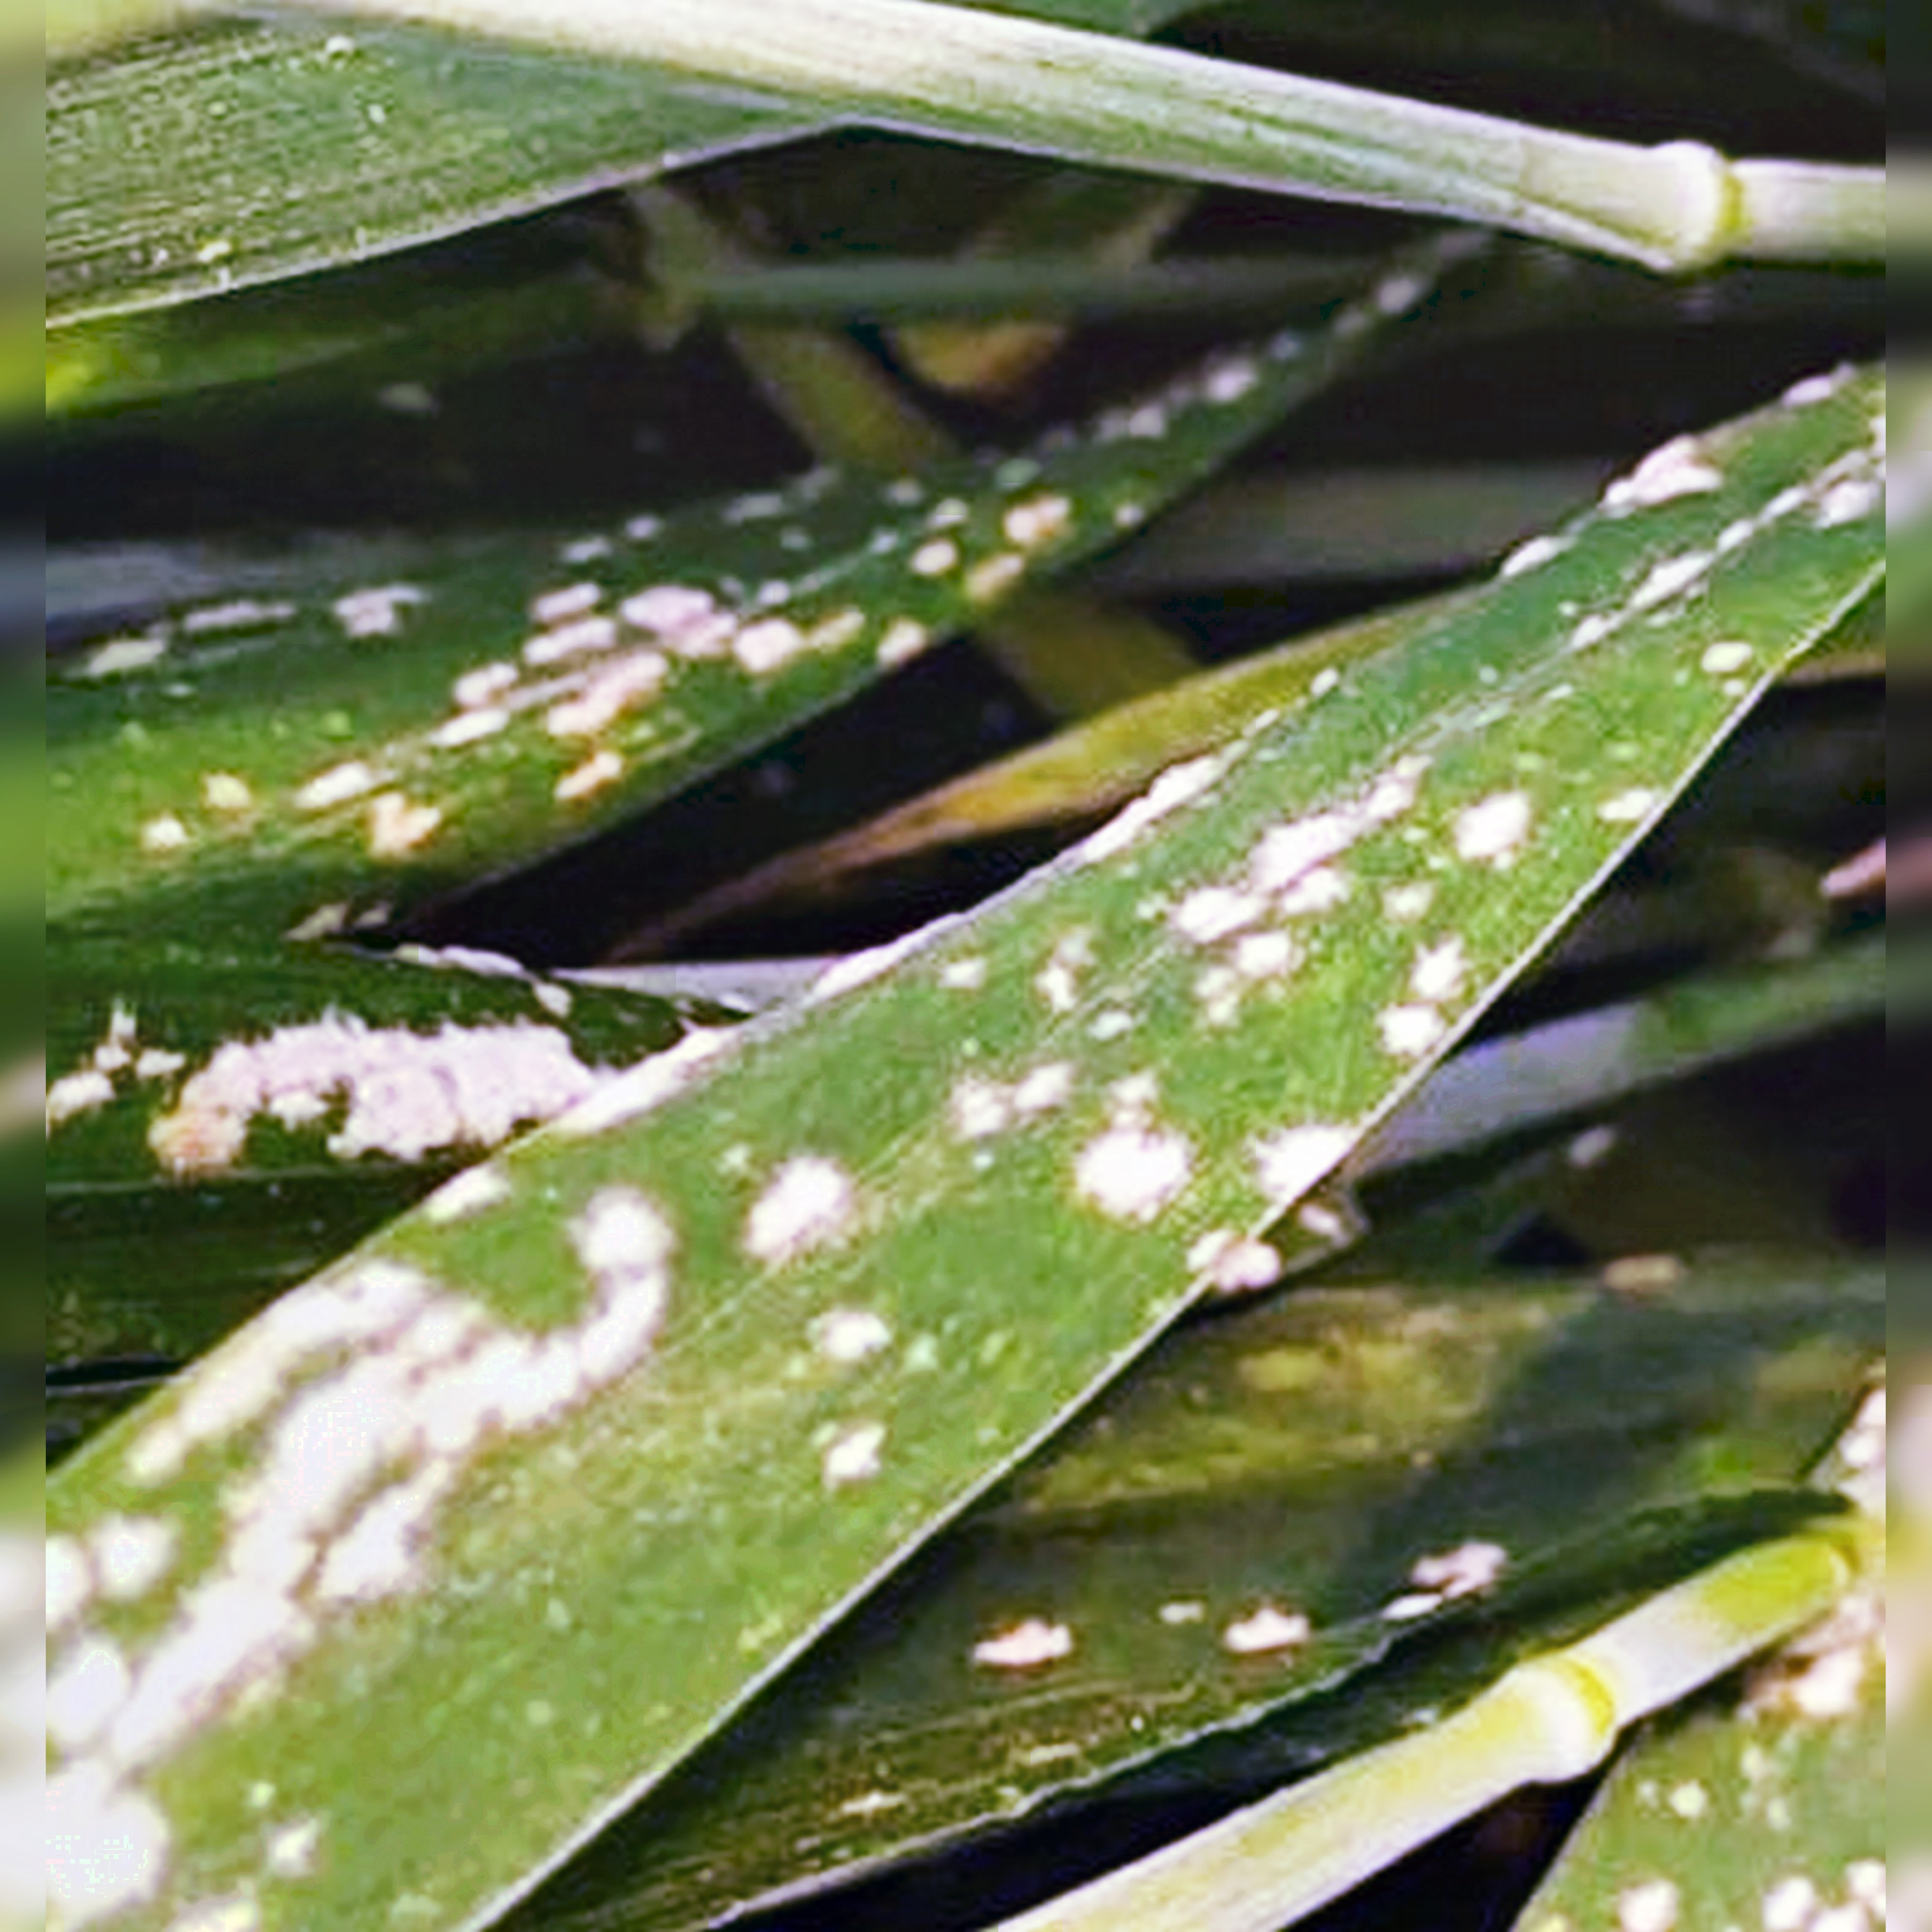Powdery Mildew: (175, 433, 1638, 1516)
